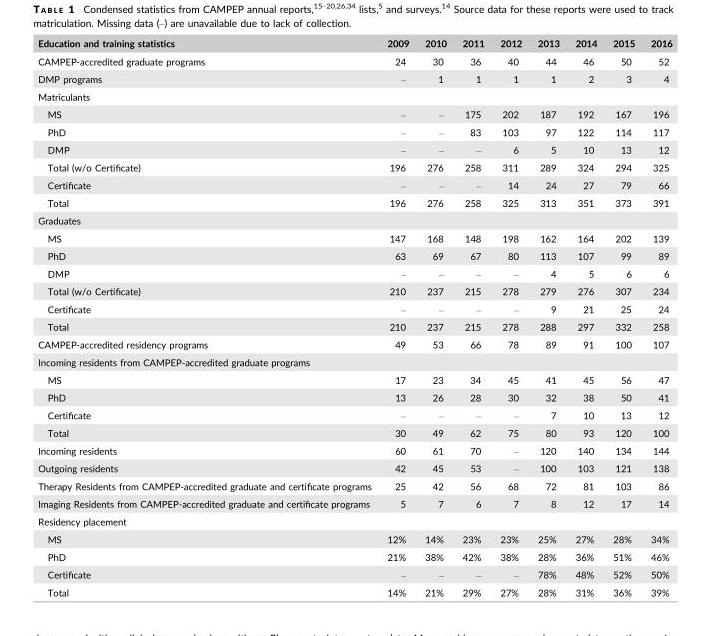table: (37, 37, 671, 597)
table column: (37, 37, 378, 597), (378, 37, 416, 597), (453, 37, 491, 597), (491, 37, 529, 597), (566, 37, 604, 597), (604, 37, 642, 597), (416, 37, 453, 597), (529, 37, 566, 597), (642, 37, 671, 597)
table column header: (37, 37, 671, 51)
table projected row header: (37, 352, 671, 370), (37, 87, 671, 104), (37, 211, 671, 228), (37, 512, 671, 529)
table row: (37, 51, 671, 69), (37, 69, 671, 87), (37, 104, 671, 122), (37, 122, 671, 140), (37, 140, 671, 158), (37, 175, 671, 193), (37, 193, 671, 211), (37, 228, 671, 246), (37, 246, 671, 264), (37, 264, 671, 282), (37, 299, 671, 317), (37, 317, 671, 335), (37, 352, 671, 370), (37, 370, 671, 388), (37, 405, 671, 423), (37, 423, 671, 441), (37, 441, 671, 459), (37, 476, 671, 494), (37, 494, 671, 512), (37, 529, 671, 547), (37, 547, 671, 565), (37, 565, 671, 583), (37, 87, 671, 104), (37, 158, 671, 175), (37, 211, 671, 228), (37, 282, 671, 299), (37, 335, 671, 352), (37, 388, 671, 405), (37, 459, 671, 476), (37, 512, 671, 529), (37, 37, 671, 51), (37, 583, 671, 597)
